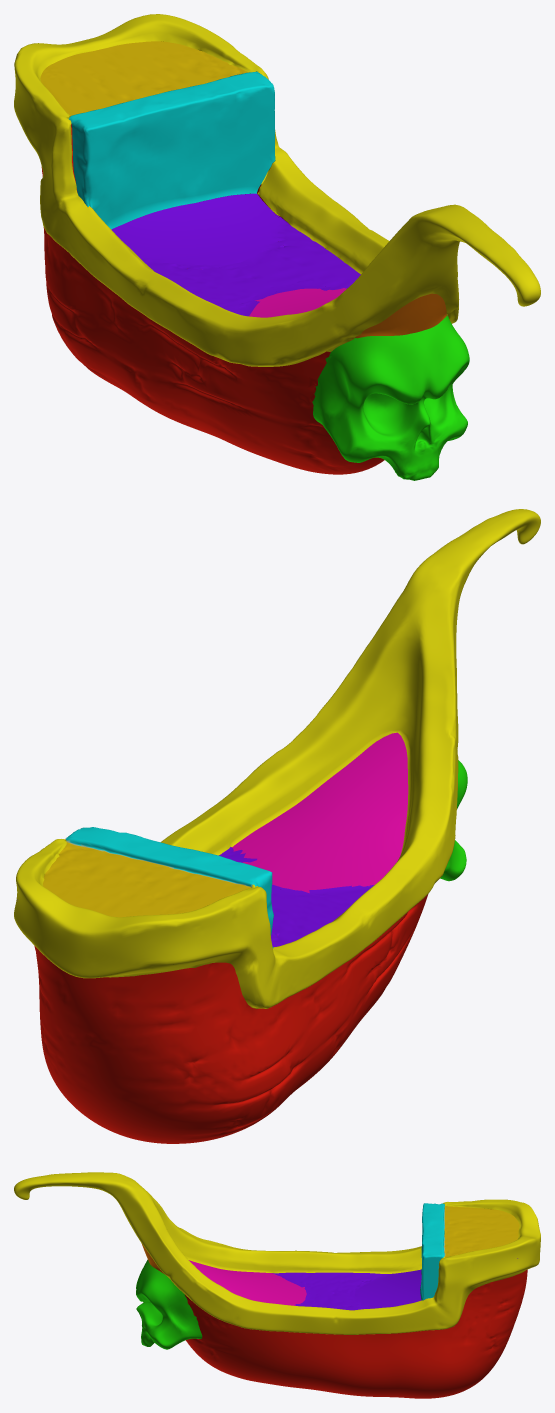
File: Boat.fbx
3 renders of one model, top to bottom at view 1: azimuth 30°, elevation 25°; view 2: azimuth 150°, elevation 25°; view 3: azimuth 270°, elevation 25°, orthographic. The views are drawn at different scales.
Parts seen in each view (by area): view 1: Merged_PM3D_Sphere3D_72; view 2: Merged_PM3D_Sphere3D_72; view 3: Merged_PM3D_Sphere3D_72.
Part boxes in pixels (bbox=[...]): Merged_PM3D_Sphere3D_72: bbox=[14, 14, 540, 480]; Merged_PM3D_Sphere3D_72: bbox=[14, 509, 540, 1143]; Merged_PM3D_Sphere3D_72: bbox=[14, 1172, 540, 1398].
Size of the model in its own units: 93.4 by 141 by 316.
